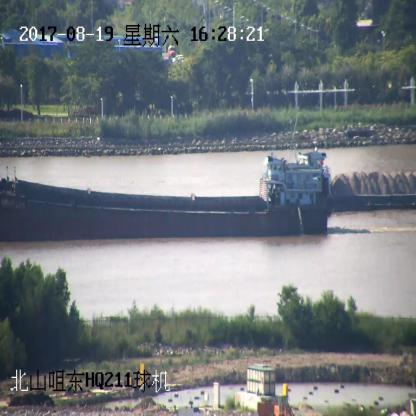Bulk Carrier: (0, 156, 330, 237)
